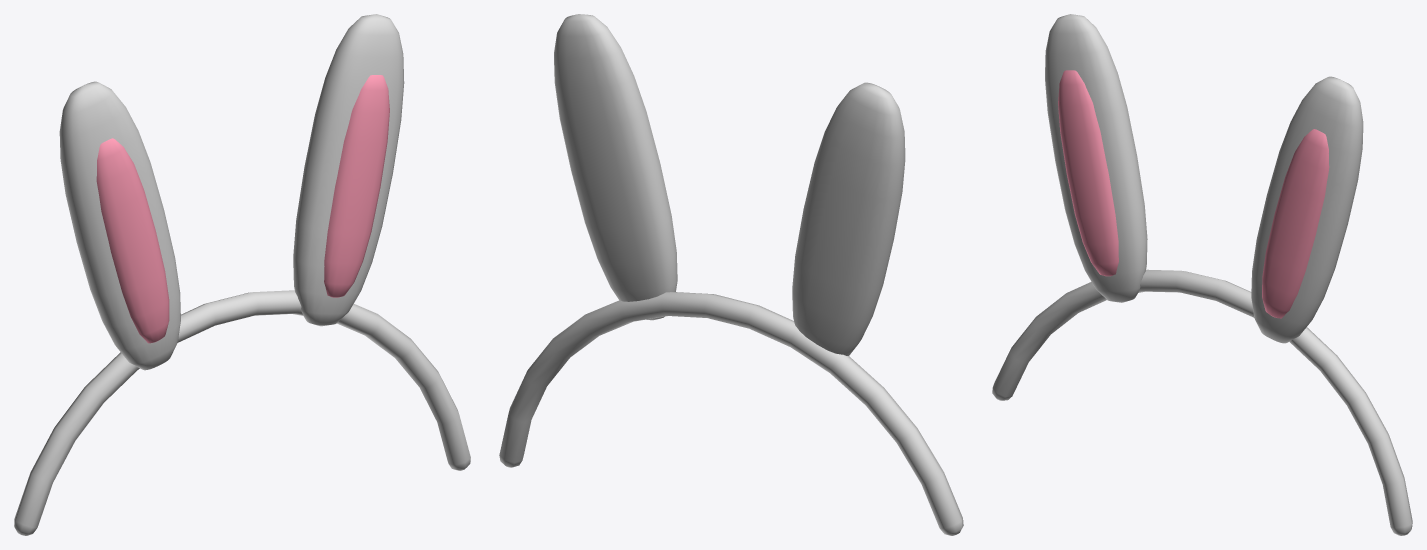
The model's file is bunny_ears.glb.
3 renders of one model, left to right at view 1: azimuth 30°, elevation 25°; view 2: azimuth 150°, elevation 25°; view 3: azimuth 330°, elevation 25°, orthographic. The views are drawn at different scales.
Parts seen in each view (by area): view 1: bunny_ears; view 2: bunny_ears; view 3: bunny_ears.
Boxes of the visible parts, <box> form: bunny_ears: <box>14,14,470,535</box>; bunny_ears: <box>499,14,963,535</box>; bunny_ears: <box>992,14,1412,535</box>.
Bounding box in the file's own units: 1.08 × 1.06 × 0.124.
